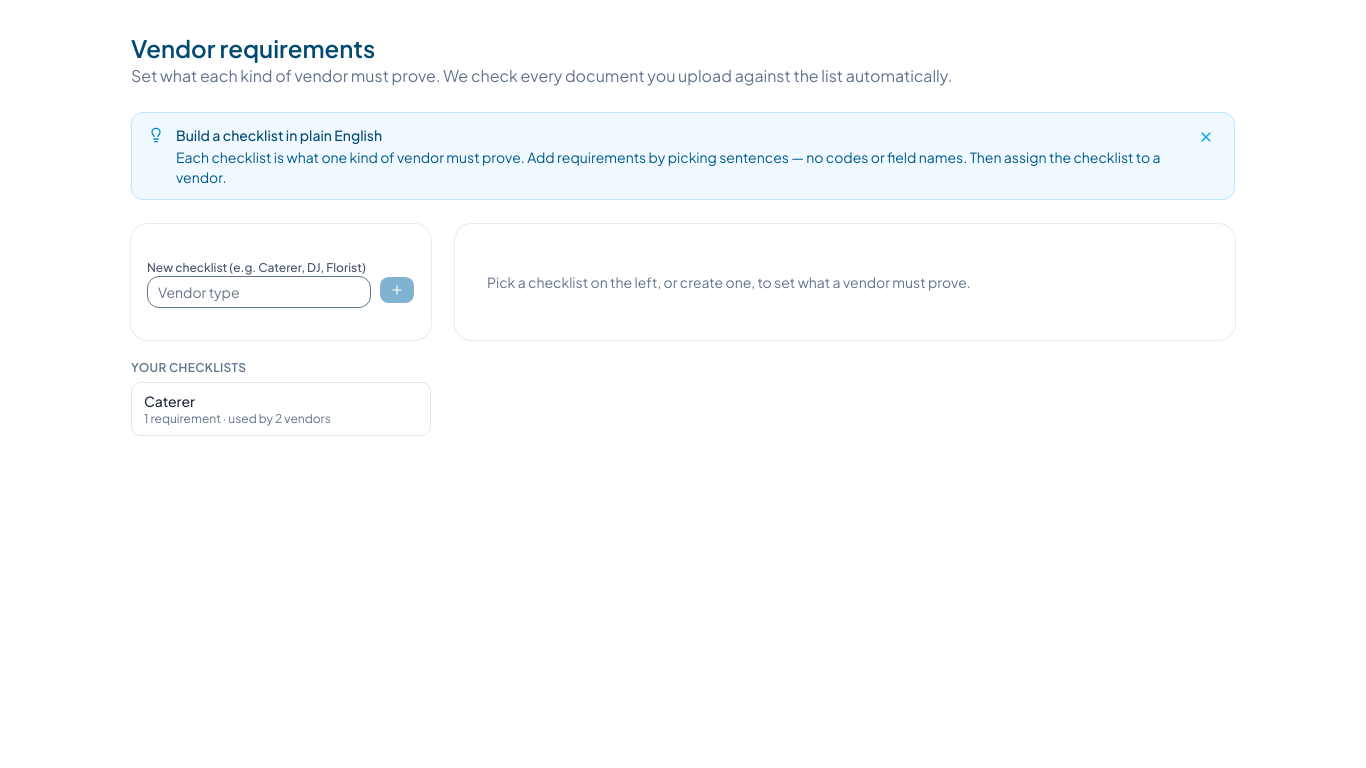
it: RulesPage — FP-081 / FP-082 / FP-083 (Batch E #319) › grays out an already-added requirement type (FP-081)
Step 1. Click the button "Caterer 1 requirement · used by 2 vendors" → (281, 409), box [131,382,431,436]
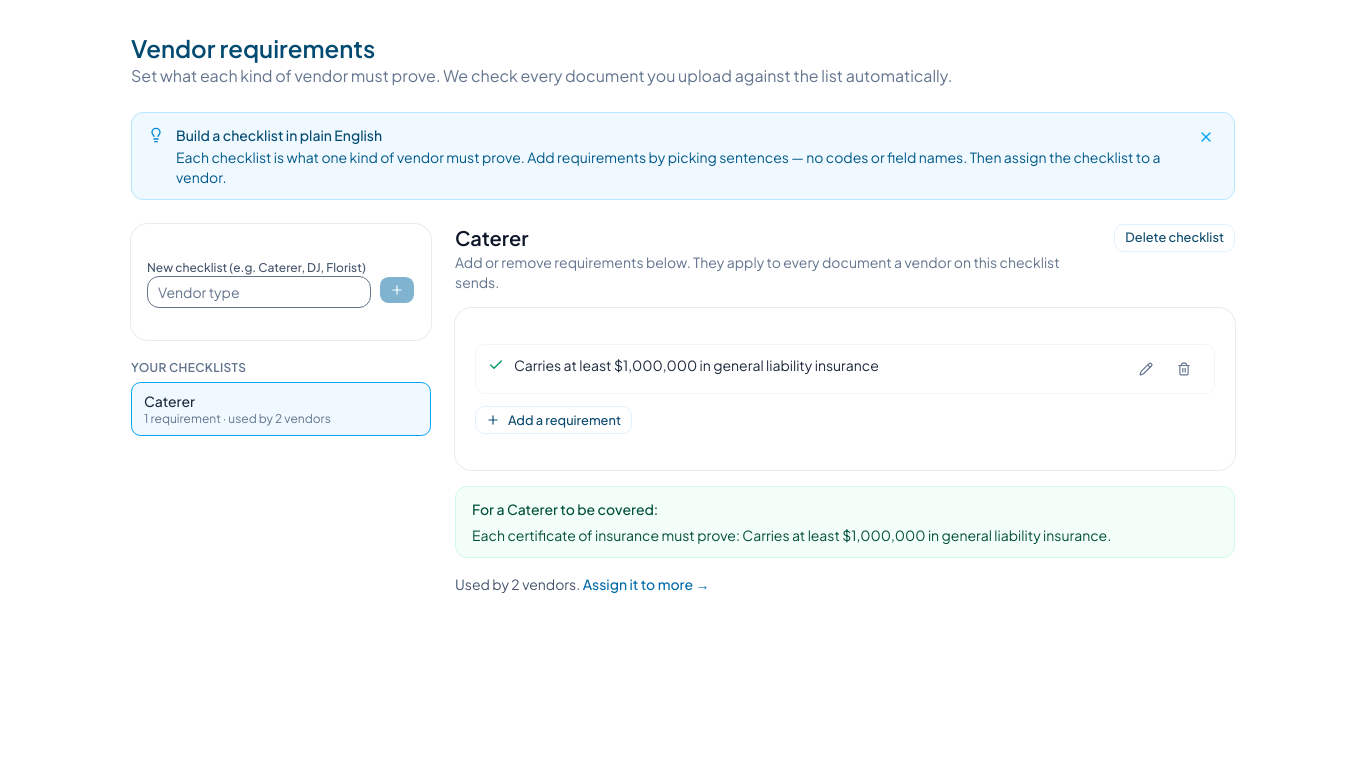
Step 2. Click the button "Add a requirement" → (554, 420), box [475,406,632,434]
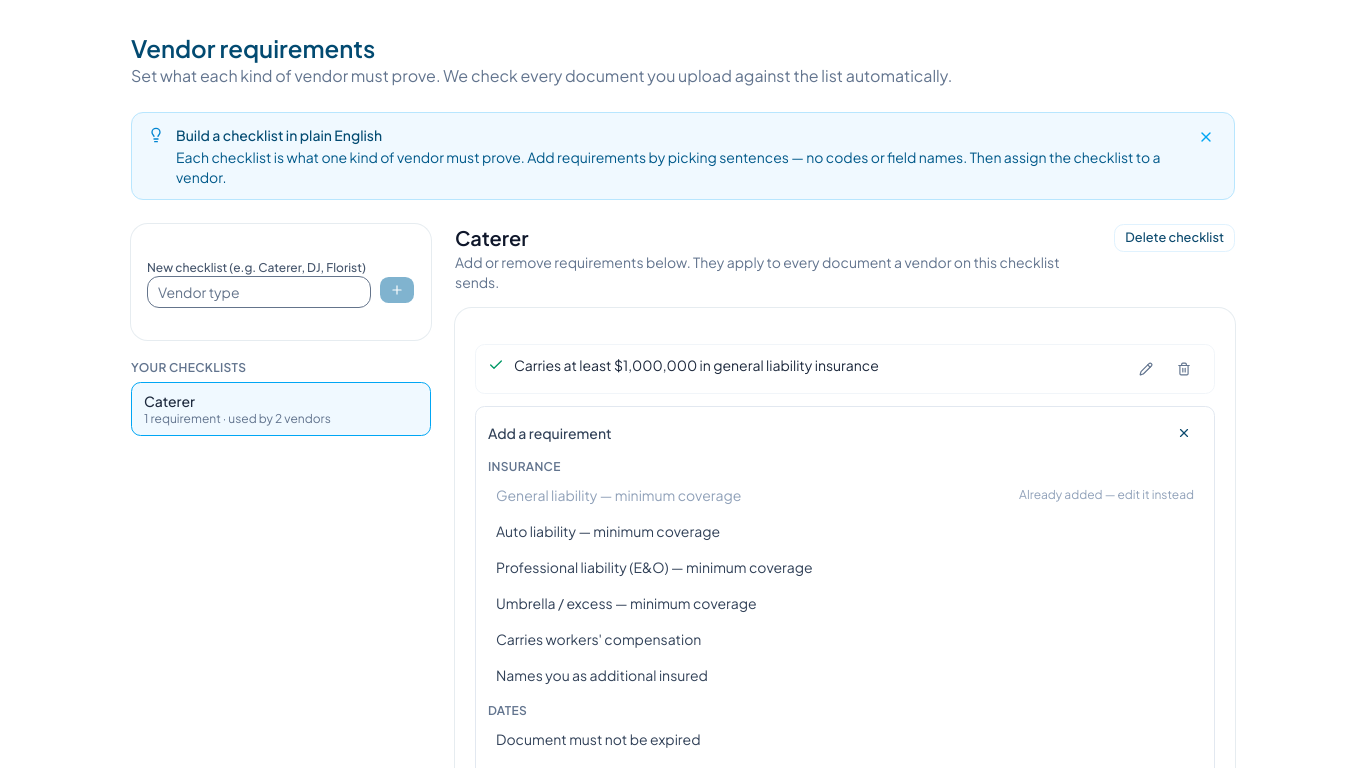
Now the text "Already added — edit it instead" is shown, box [1019,487,1194,503]
Now the button "Auto liability — minimum coverage" is shown, box [488,515,1202,547]
